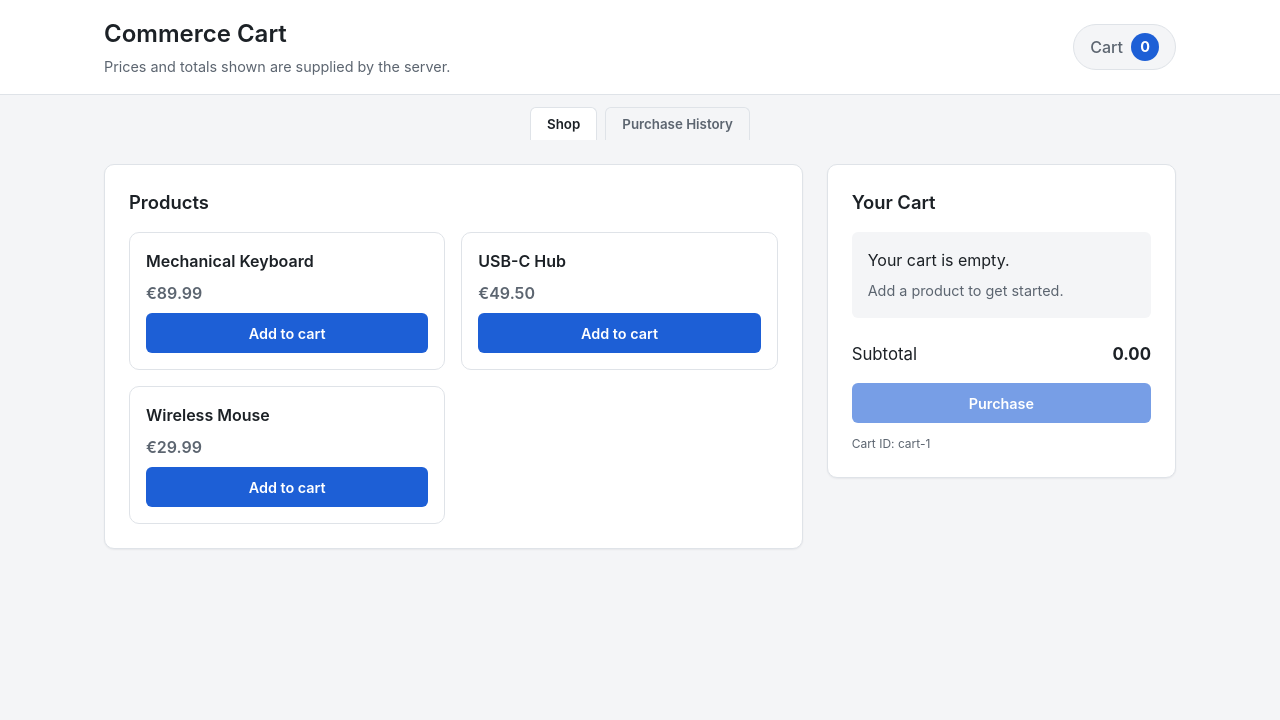
Test case: Commerce Cart application › adds a Product to the Cart
What coordinates should you click on to do the following:
click the button "Add to cart" below "€89.99"
I would click on:
 (287, 333)
Its box is [146, 313, 428, 353].
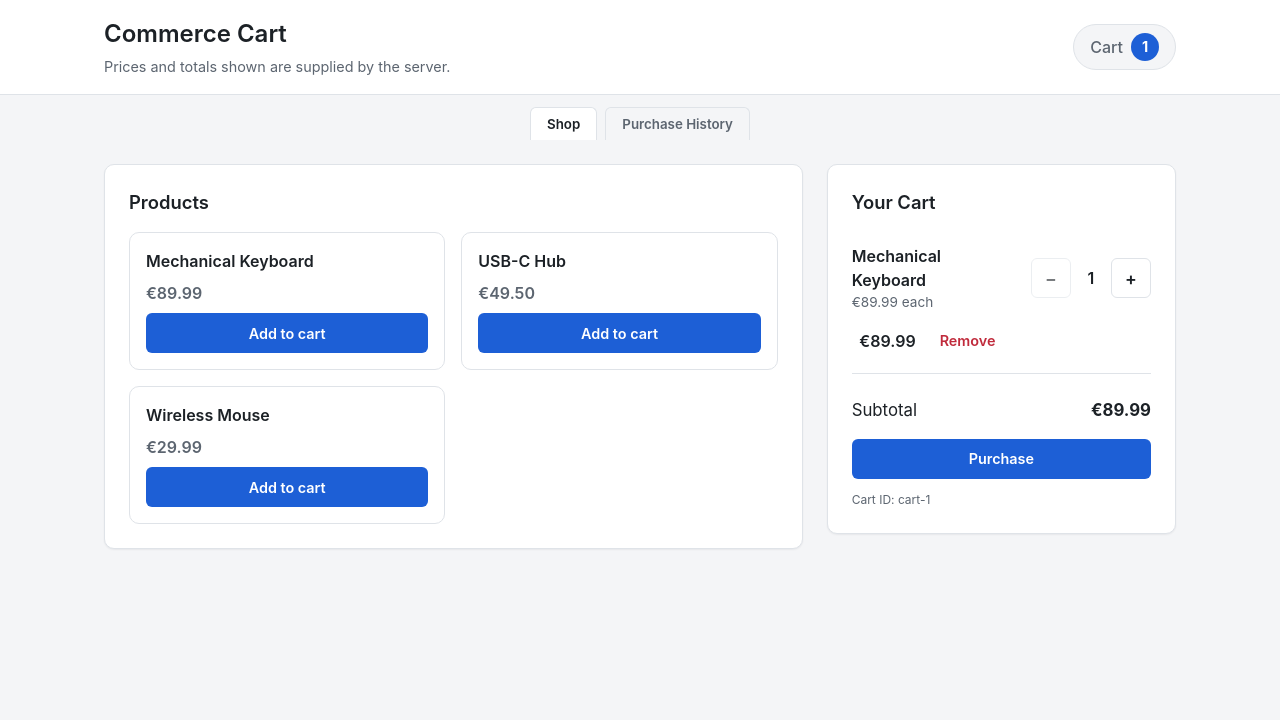
expect the text "Mechanical Keyboard" is shown: met, box [852, 246, 941, 290]
